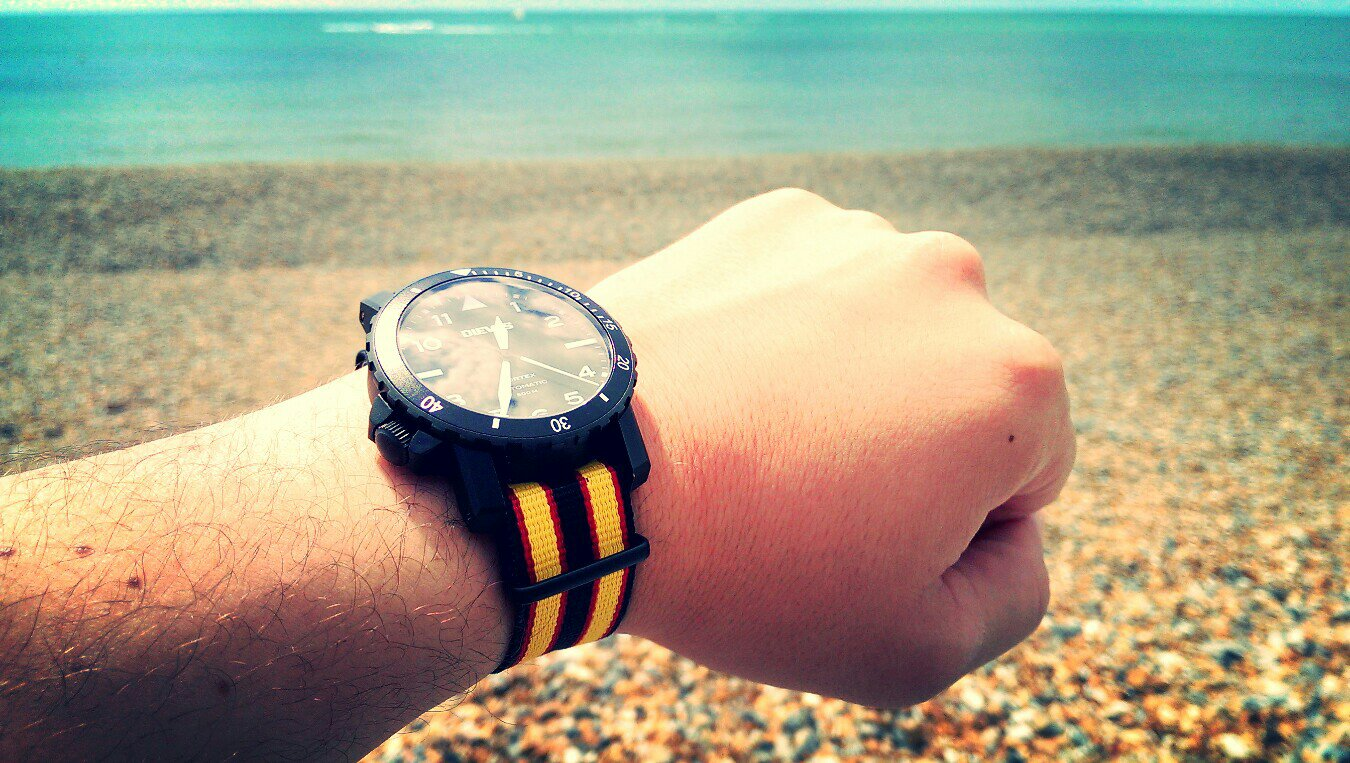clock: (372, 268, 639, 441)
